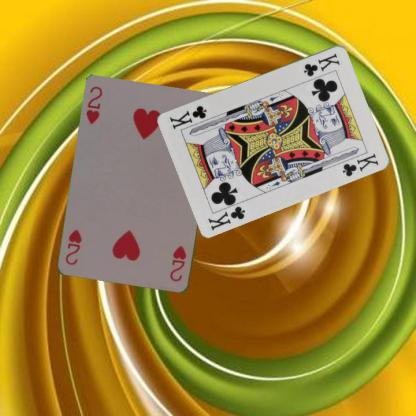2h: (167, 243, 188, 283), (84, 84, 104, 126)
Kc: (205, 203, 247, 231), (301, 51, 341, 78)
